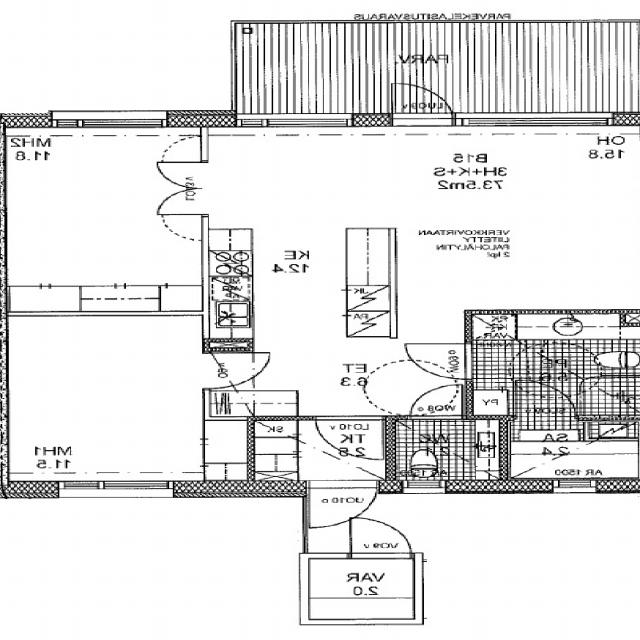door: (313, 479, 377, 532), (392, 77, 453, 127), (316, 414, 382, 458), (516, 380, 575, 421), (203, 352, 269, 388), (352, 518, 410, 558), (406, 344, 474, 378), (412, 384, 462, 420), (157, 188, 210, 214), (157, 162, 210, 188)
